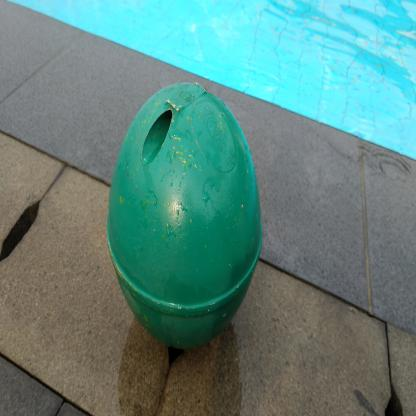green_buoy: (103, 71, 264, 363)
